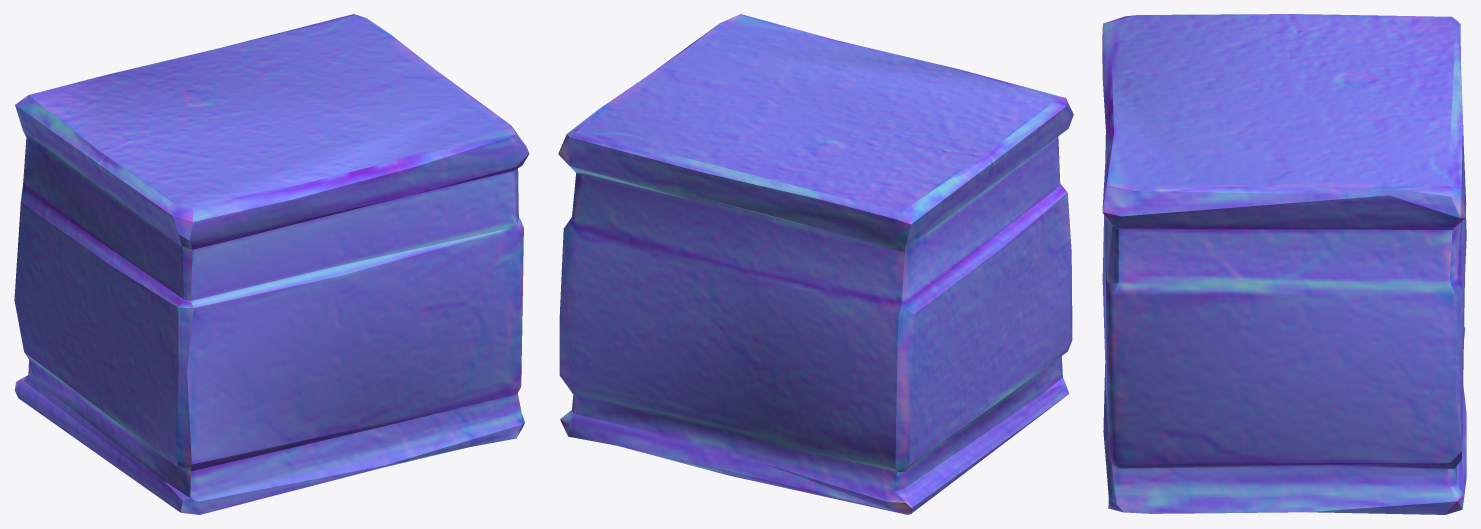
File: pillar_bottom_01a_LOD1.fbx
3 renders of one model, left to right at view 1: azimuth 30°, elevation 25°; view 2: azimuth 150°, elevation 25°; view 3: azimuth 270°, elevation 25°, orthographic. The views are drawn at different scales.
Parts seen in each view (by area): view 1: pillar_bottom_01a_LOD1; view 2: pillar_bottom_01a_LOD1; view 3: pillar_bottom_01a_LOD1.
Boxes of the visible parts, left/top/right/bottom form: pillar_bottom_01a_LOD1: left=14, top=14, right=529, bottom=514; pillar_bottom_01a_LOD1: left=558, top=14, right=1073, bottom=514; pillar_bottom_01a_LOD1: left=1102, top=14, right=1466, bottom=514.
Size of the model in its own units: 33.97 by 28.56 by 28.
1 material, 1 textured.
